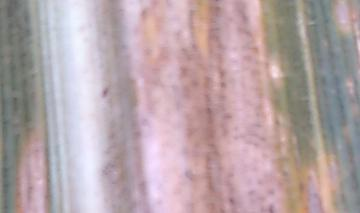tarspot: (101, 87, 109, 98)
